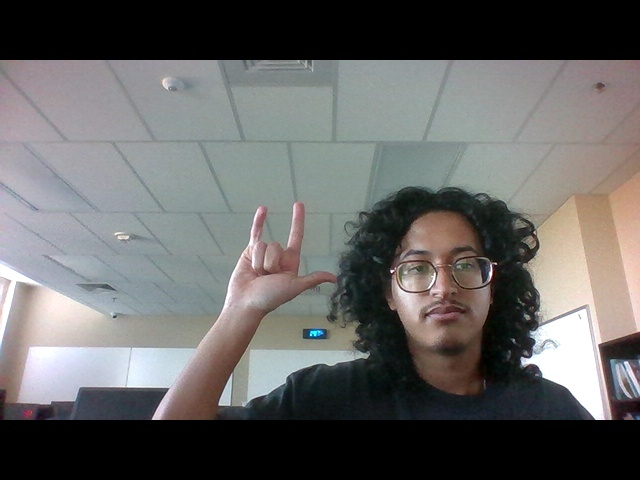iloveyou: (207, 197, 350, 330)
